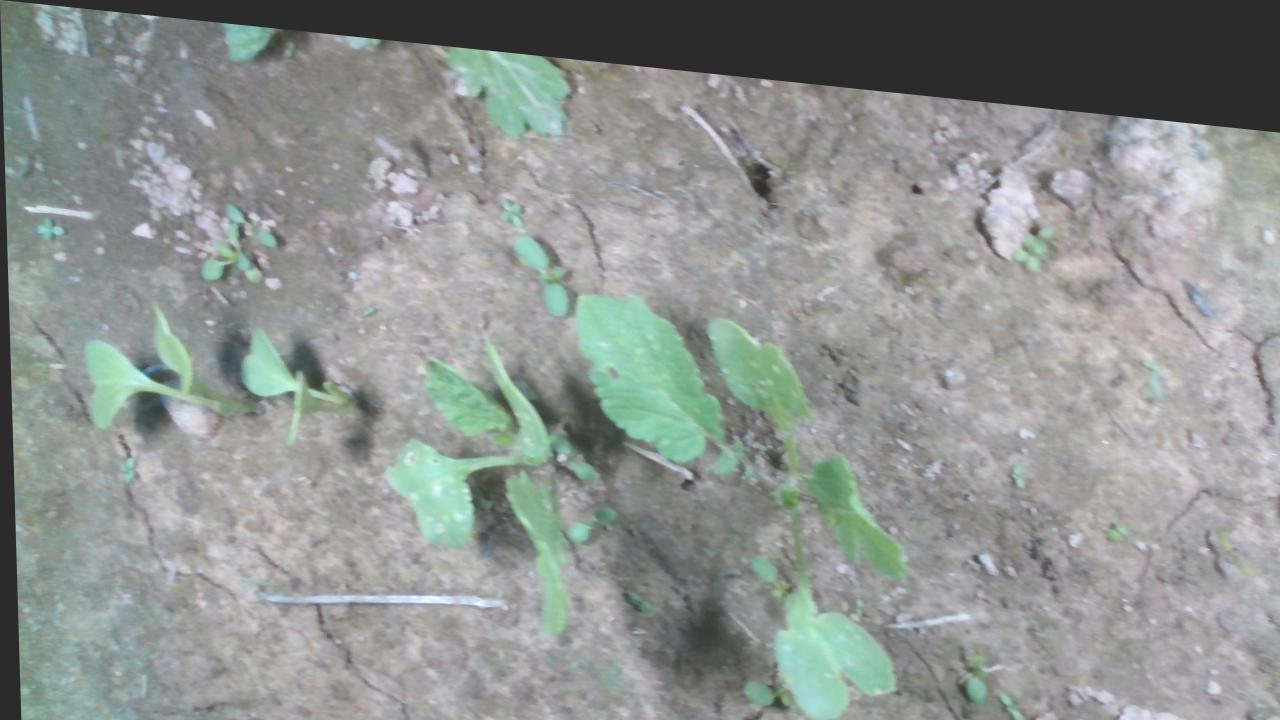weed: (507, 220, 568, 305), (993, 665, 1021, 703), (33, 212, 65, 242), (495, 184, 523, 217), (1100, 494, 1126, 519)
